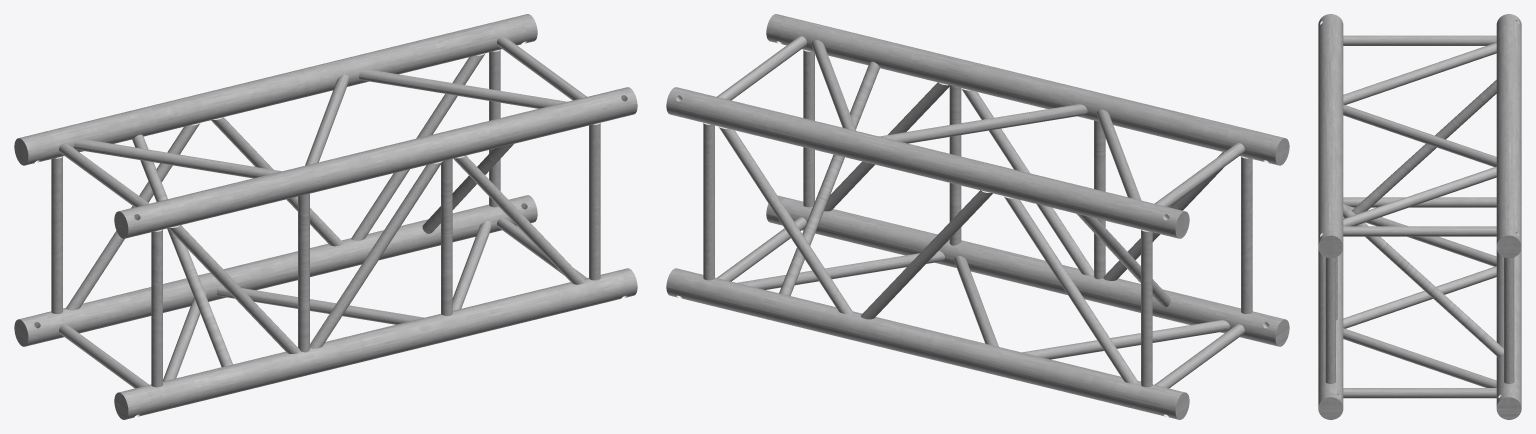
The model's file is Milos_M390UHD_1000_truss_section-4bd60613.glb.
3 renders of one model, left to right at view 1: azimuth 30°, elevation 25°; view 2: azimuth 150°, elevation 25°; view 3: azimuth 270°, elevation 25°, orthographic. The views are drawn at different scales.
Parts seen in each view (by area): view 1: Geom3D (×5); view 2: Geom3D (×5); view 3: Geom3D (×3).
Boxes of the visible parts, <box> form: Geom3D (×5): <box>14,14,637,419</box>; Geom3D (×5): <box>666,14,1289,419</box>; Geom3D (×3): <box>1318,14,1521,419</box>.
Bounding box in the file's own units: 1 × 0.388 × 0.388.
2 materials, 1 textured.
